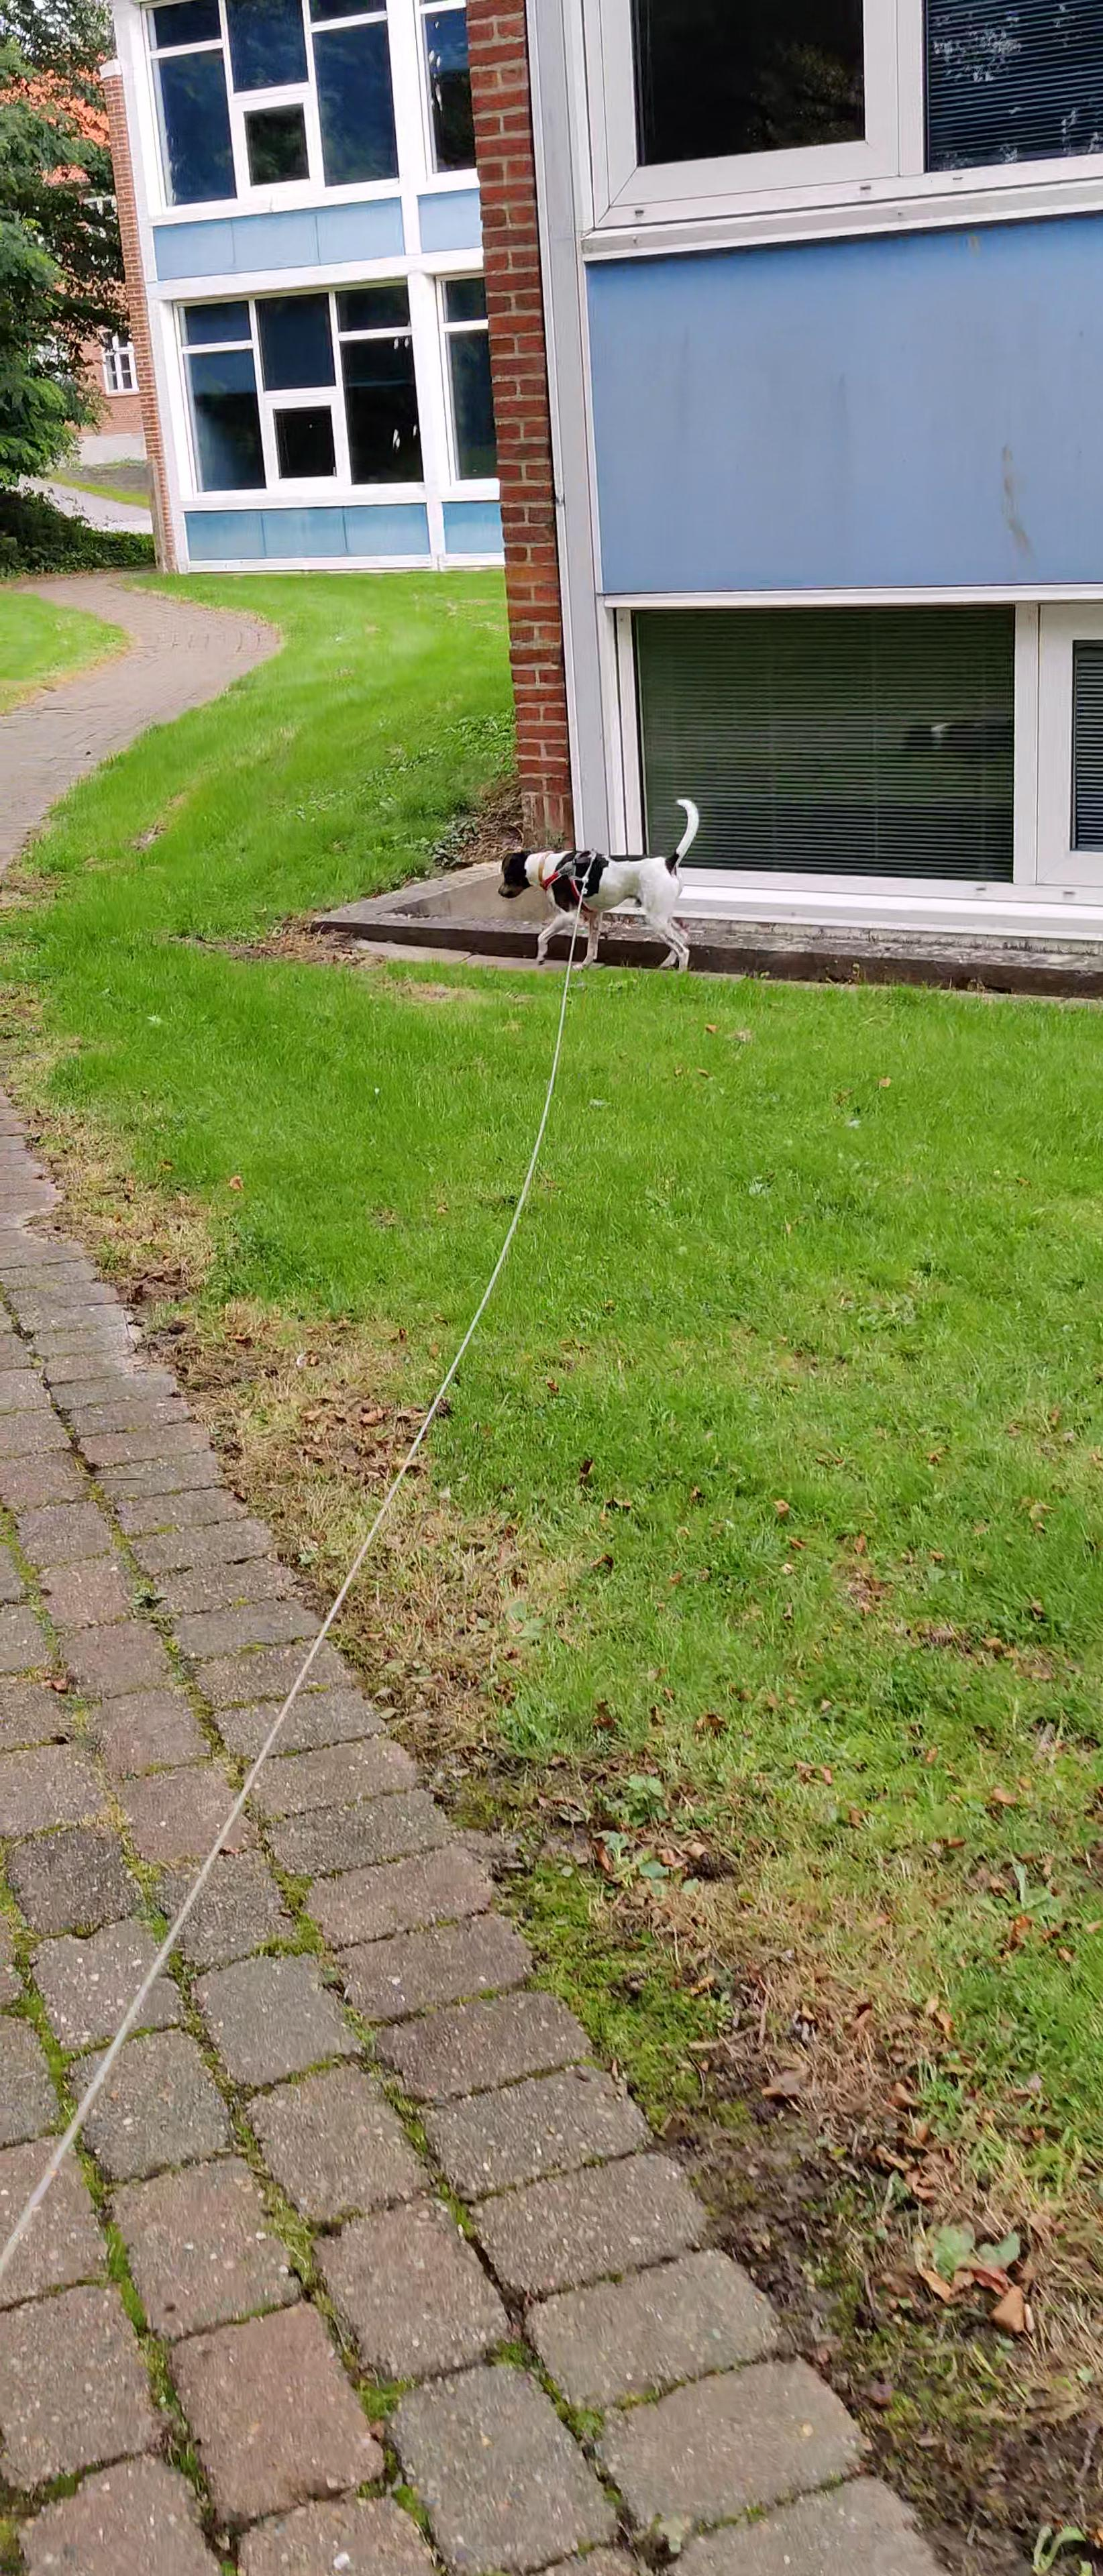Dog: (482, 785, 713, 982)
